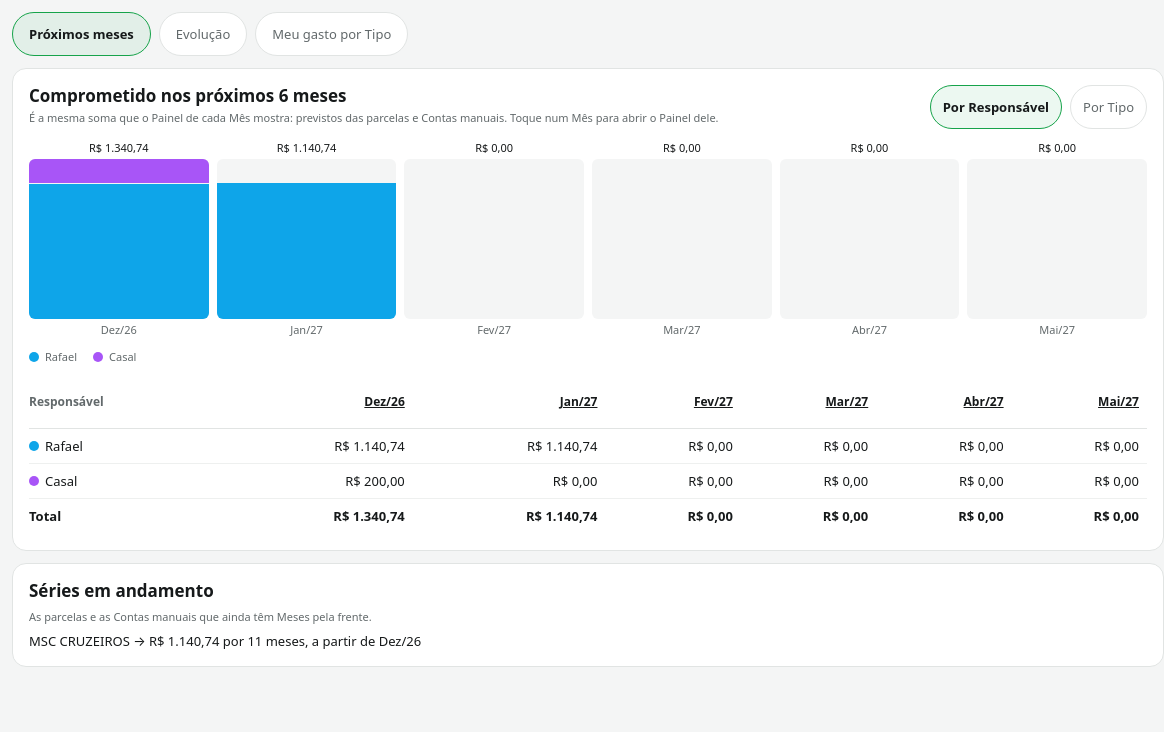
Próximos meses › o seletor muda o agrupamento do gráfico e da tabela: Por Tipo
The image size is (1164, 732).
Click the button "Por Tipo".
click(1109, 107)  # box [1070,85,1147,129]
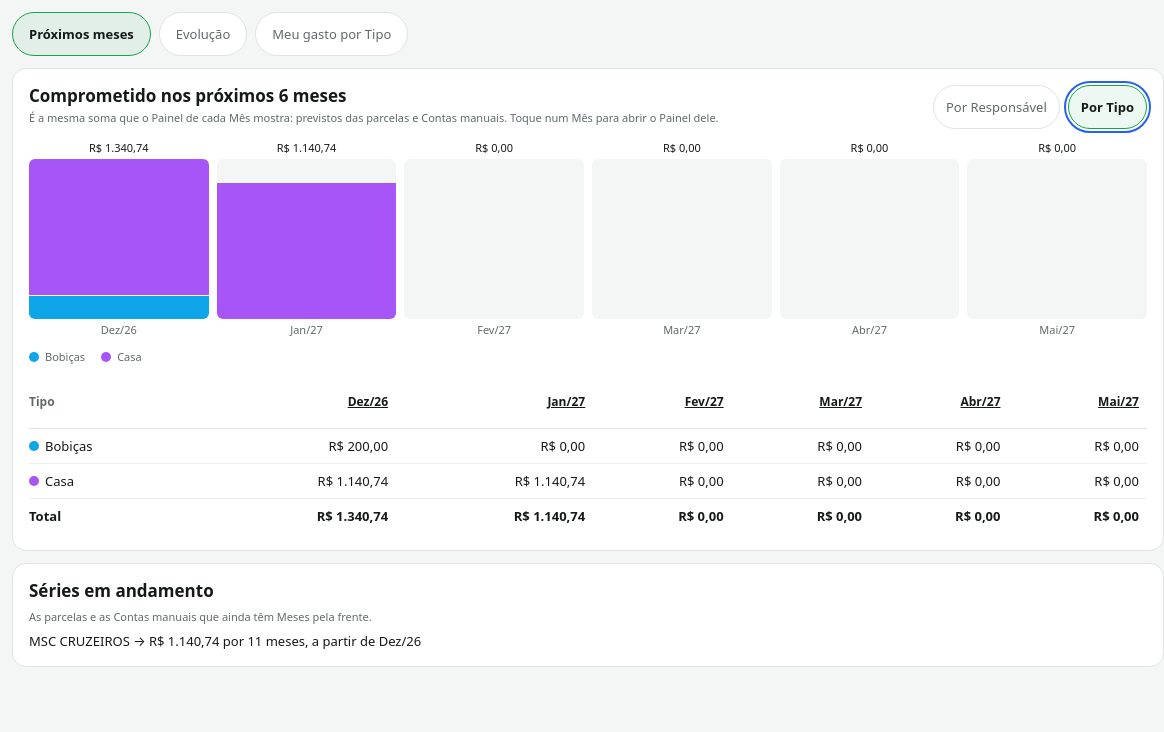
Result: the column heading "Tipo" is shown at [29,376,199,428]
Result: the cell "R$ 200,00" is shown at [199,429,396,464]
Result: the list items read "Bobiças", "Casa", in this order at [29,350,85,364]; [101,350,142,364]
Click the button "Por Responsável".
click(996, 107)  # box [933,85,1060,129]
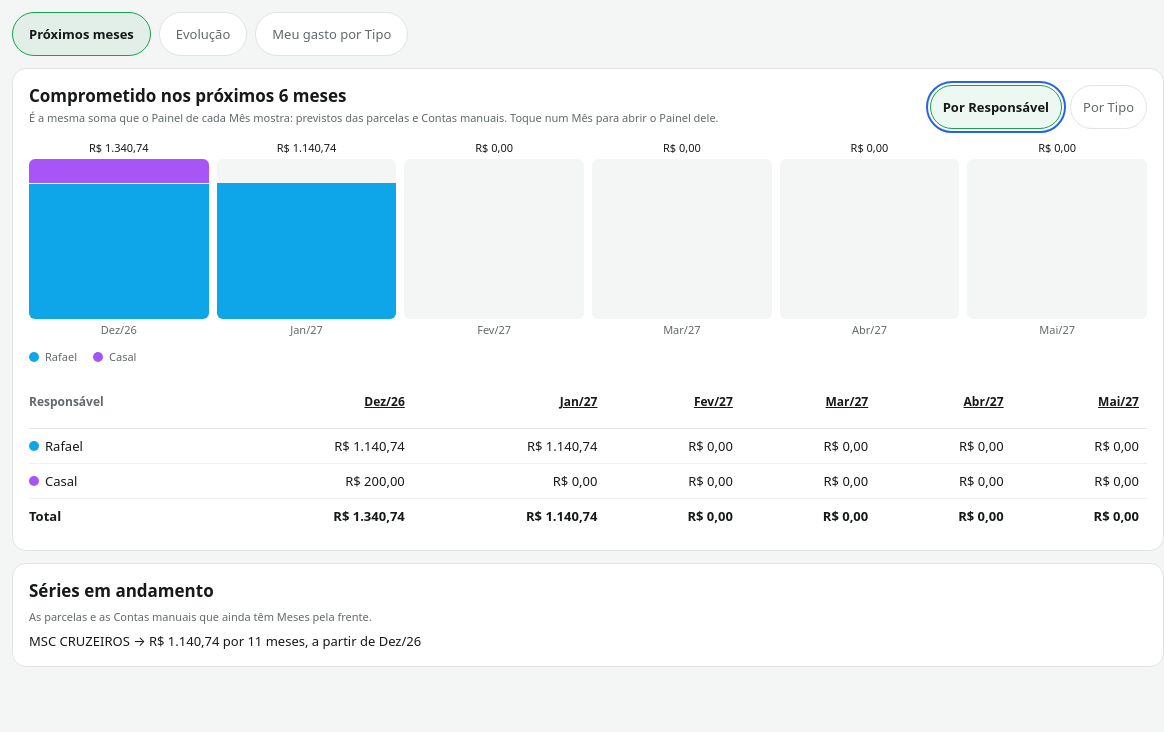
Result: the column heading "Responsável" is shown at [29,376,220,428]
